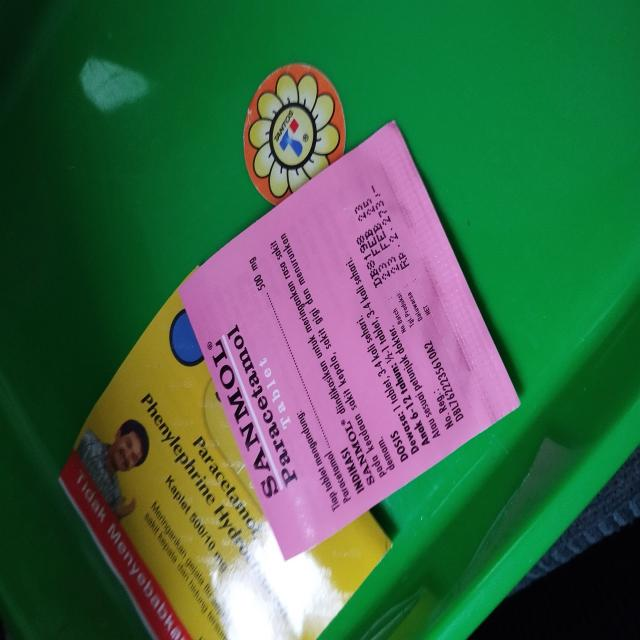B3: (178, 117, 523, 566), (57, 290, 394, 640)
